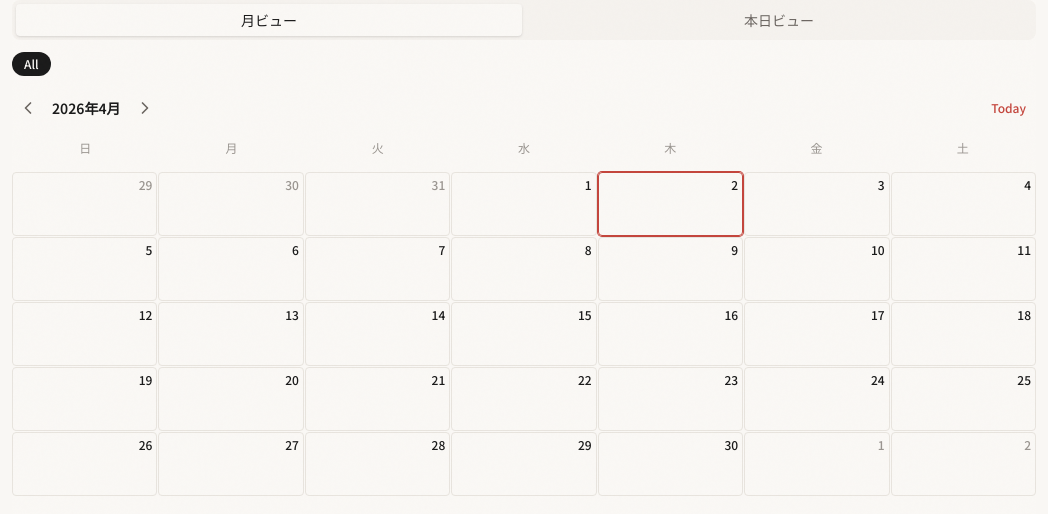
Scenario: CalendarPage - Basic Structure (SDD-004-FE-01) › should navigate to the previous month when prev button is clicked
Click the button with test id "prev-month-btn": (28, 108) [12,92,44,124]
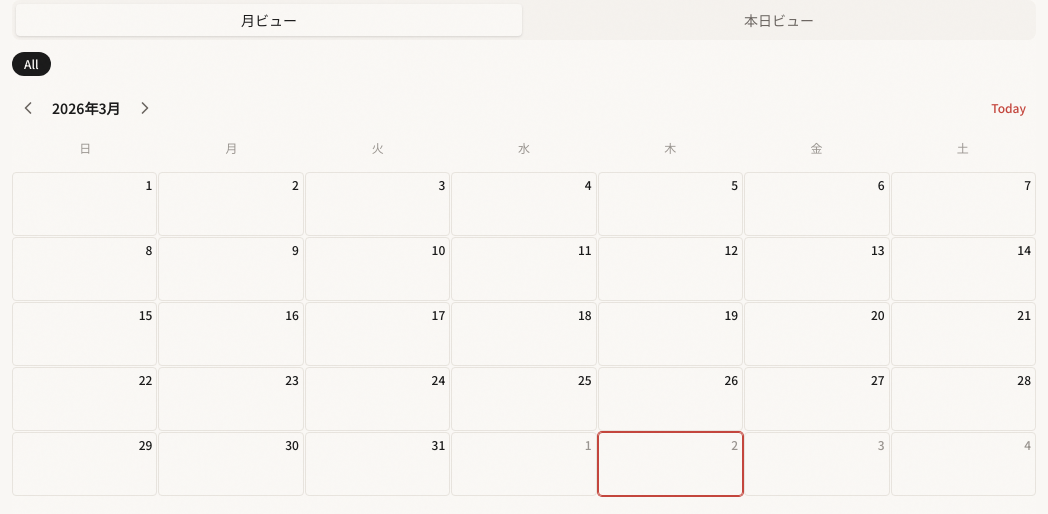
Check: the text "2026年3月" is shown, box [52,98,121,118]
